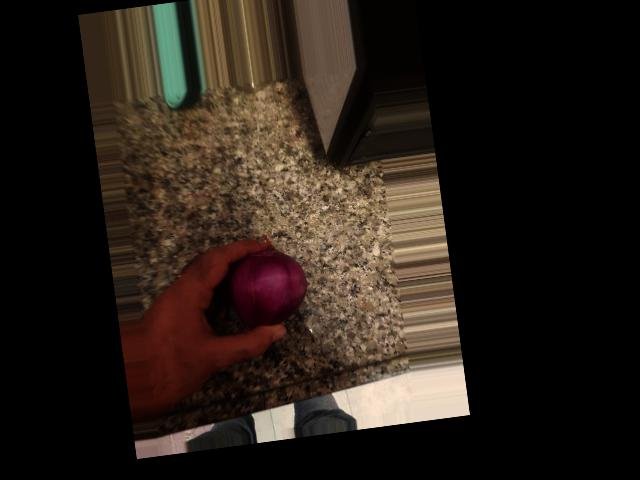onion: (229, 239, 311, 339)
